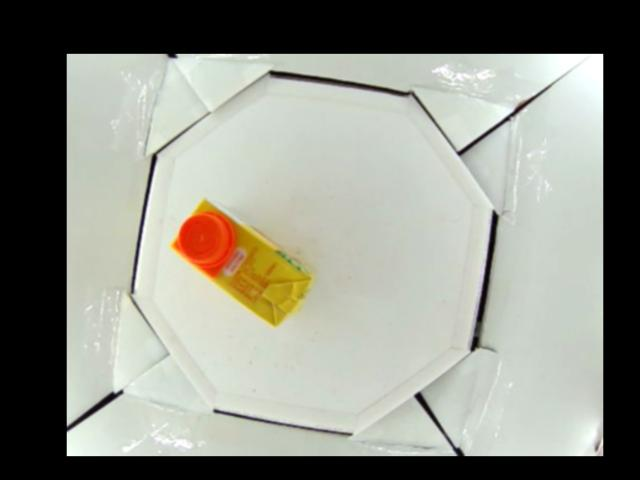Bottle: (168, 200, 314, 326)
